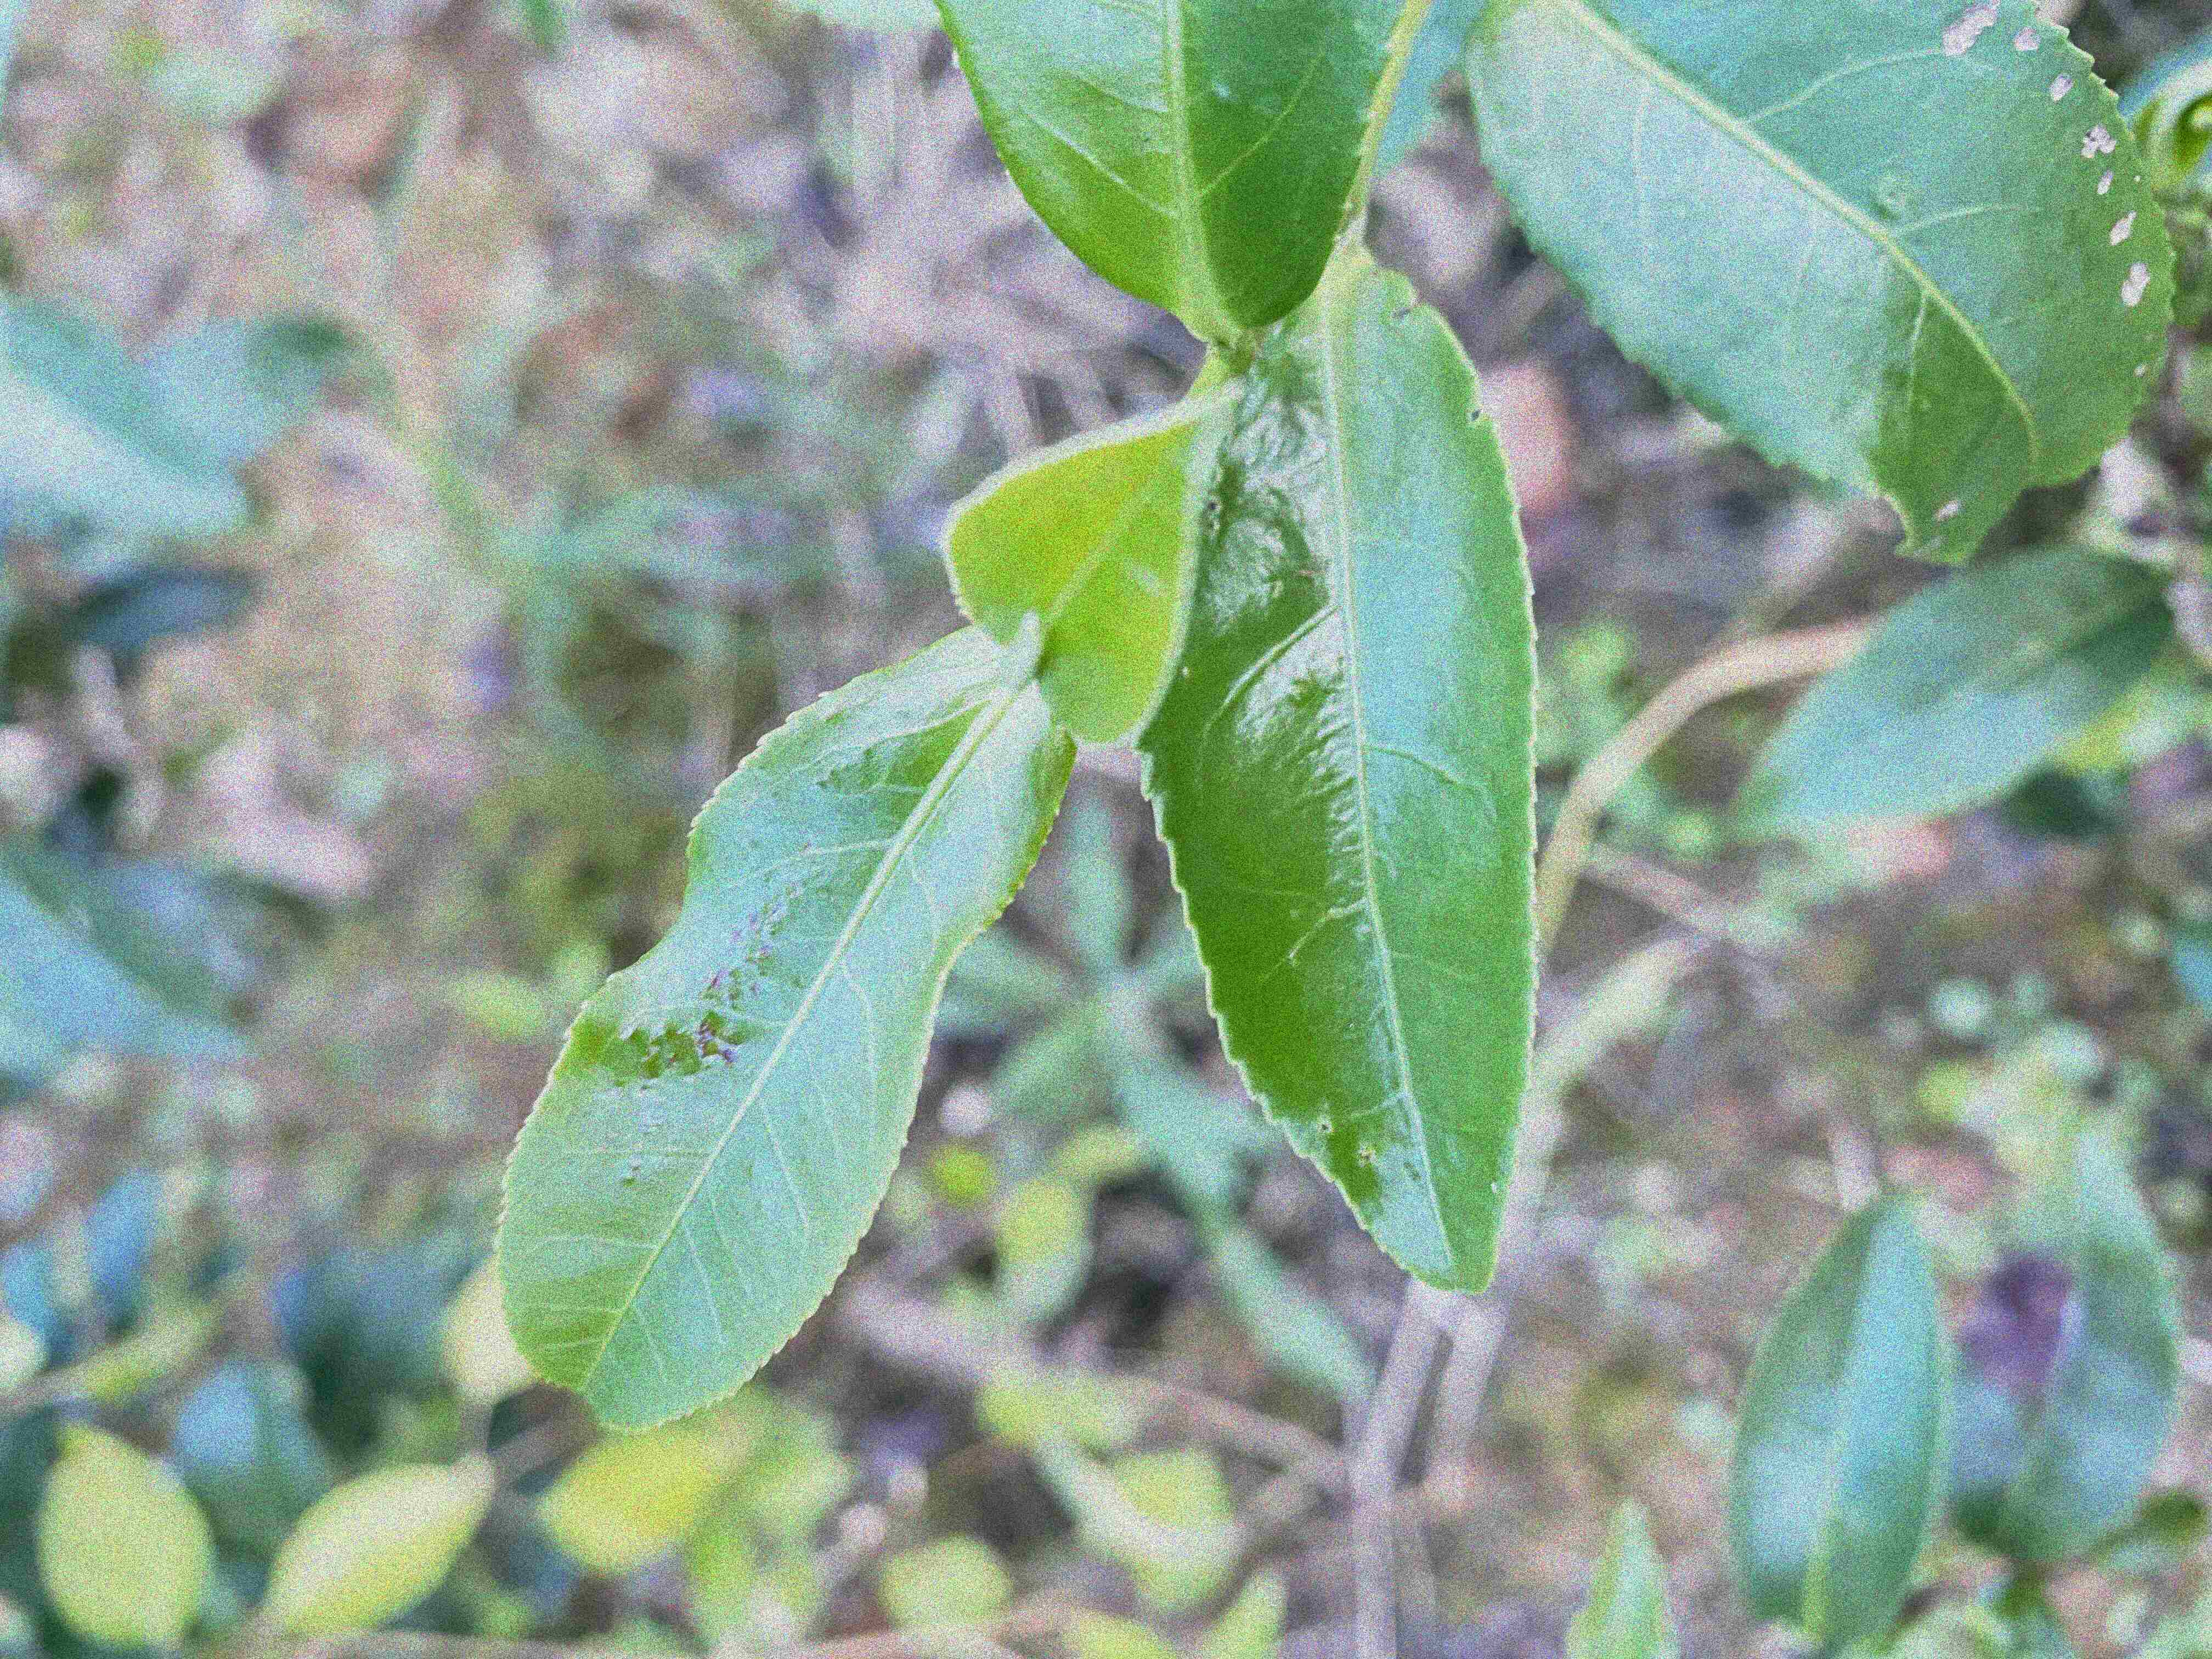healthy: (932, 2, 1409, 329), (942, 389, 1240, 748)
tanju_low: (491, 640, 1073, 1434), (1465, 2, 2182, 568)
